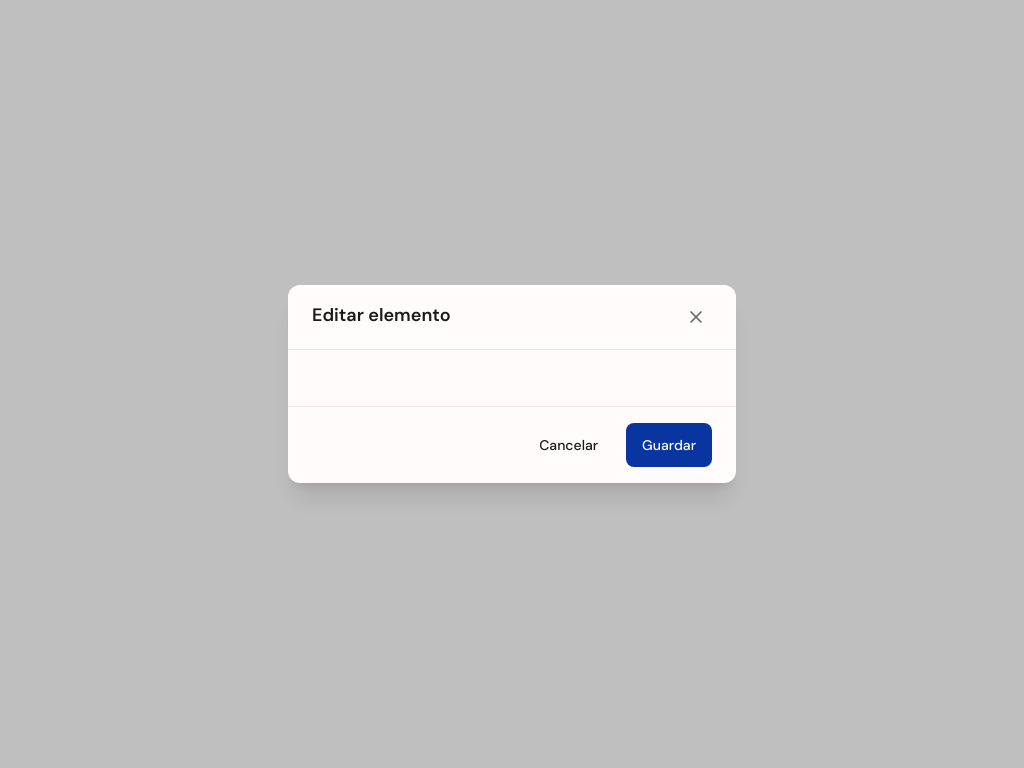
Scenario: EditModal › close behavior › shows confirmation dialog when dirty and trying to close
The image size is (1024, 768).
What coordinates should you click on to do the following:
click the button "Cancelar"
I would click on:
 (569, 445)
Its box is left=523, top=423, right=614, bottom=467.
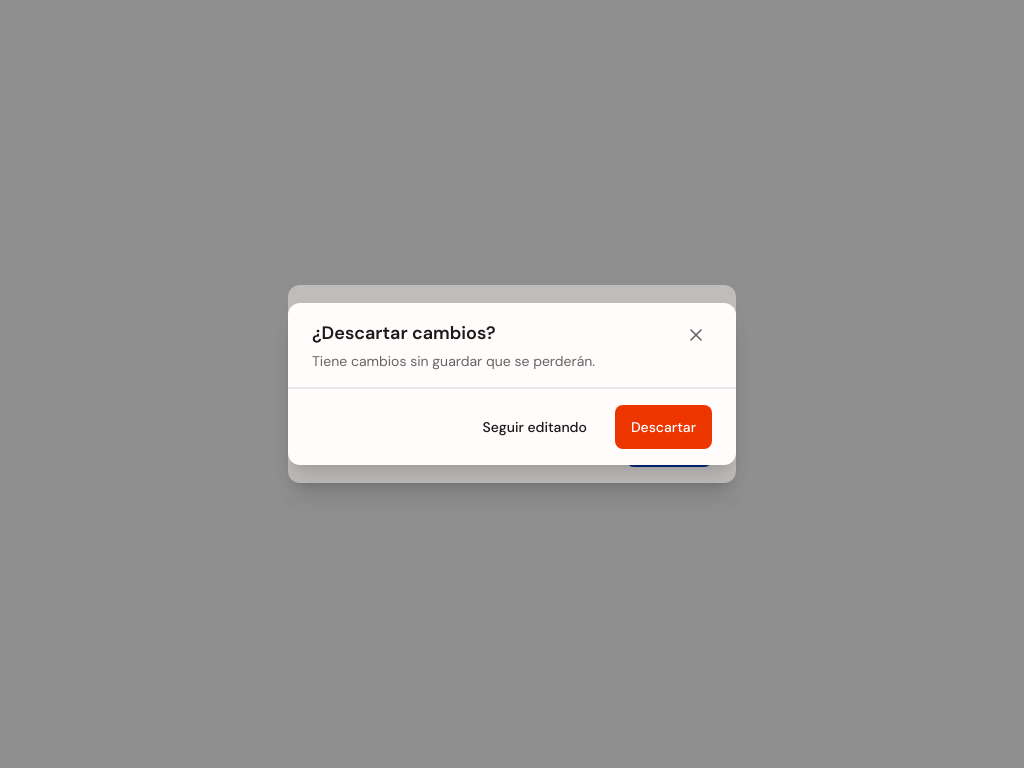
Expected: the heading "¿Descartar cambios?" is shown, left=312, top=321, right=496, bottom=345
